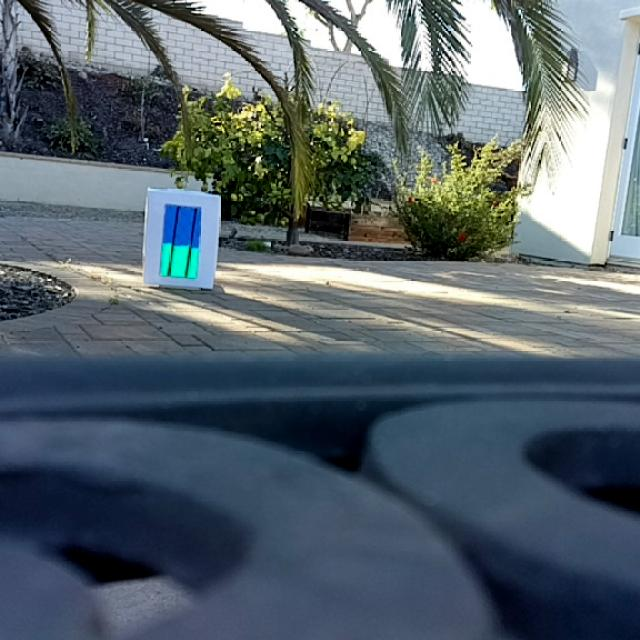led: (160, 201, 201, 280)
